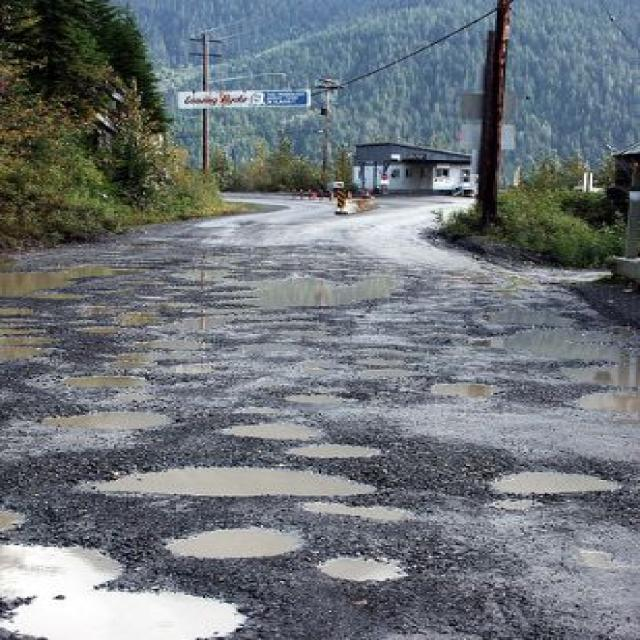Pothole: (1, 587, 254, 640), (65, 458, 374, 501), (1, 536, 125, 594), (159, 520, 304, 559), (486, 464, 621, 495), (293, 498, 424, 525), (310, 551, 412, 585), (40, 407, 175, 430), (210, 417, 322, 444), (281, 438, 391, 460), (564, 386, 639, 414), (277, 385, 366, 407), (420, 376, 503, 399), (51, 374, 159, 391)
